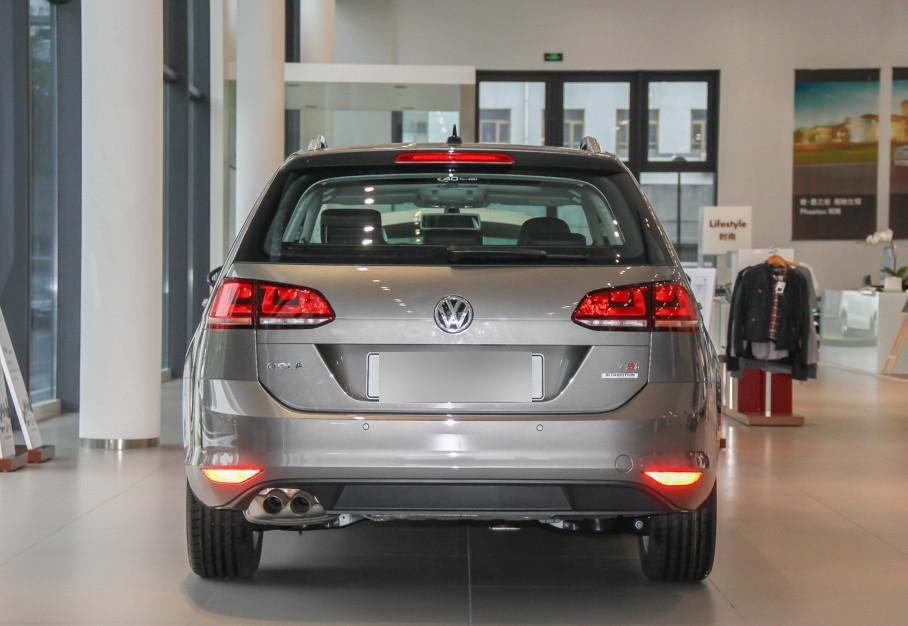Wagon: (182, 135, 723, 582)
